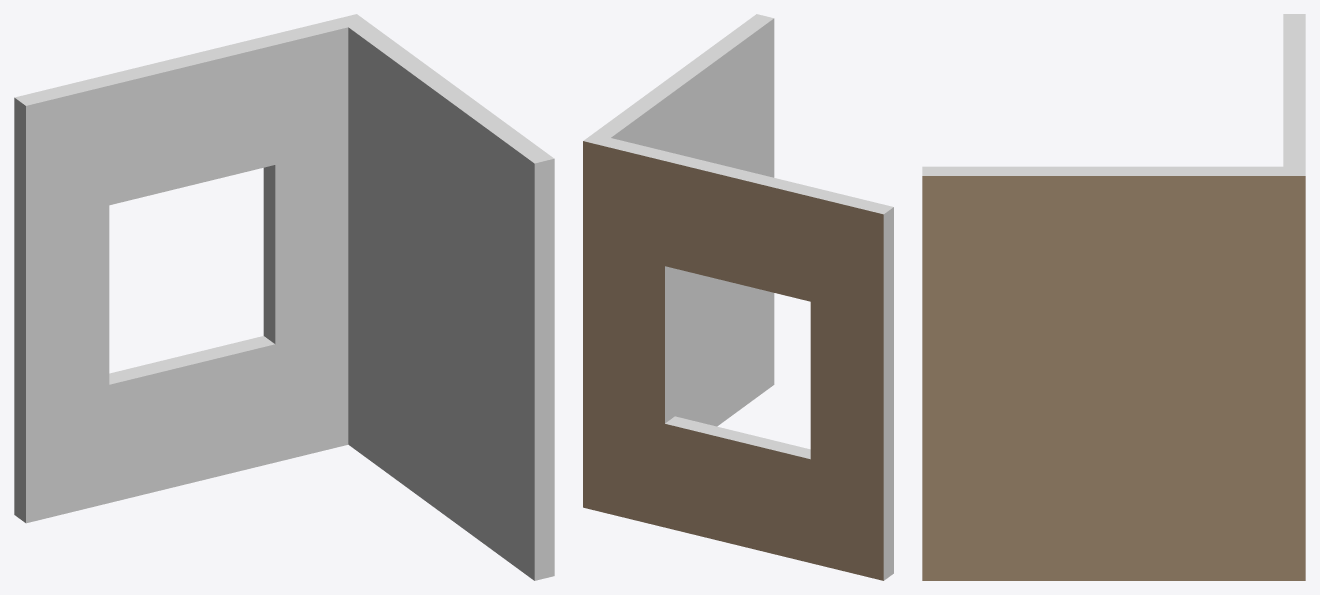
The model's file is Wall2_C2_10.fbx.
3 renders of one model, left to right at view 1: azimuth 30°, elevation 25°; view 2: azimuth 150°, elevation 25°; view 3: azimuth 270°, elevation 25°, orthographic. The views are drawn at different scales.
Parts seen in each view (by area): view 1: Wall2_C2_10; view 2: Wall2_C2_10; view 3: Wall2_C2_10.
Part boxes in pixels (bbox=[...]): Wall2_C2_10: bbox=[14, 14, 554, 580]; Wall2_C2_10: bbox=[583, 14, 893, 580]; Wall2_C2_10: bbox=[922, 14, 1305, 580].
Size of the model in its own units: 258 by 300 by 258.
